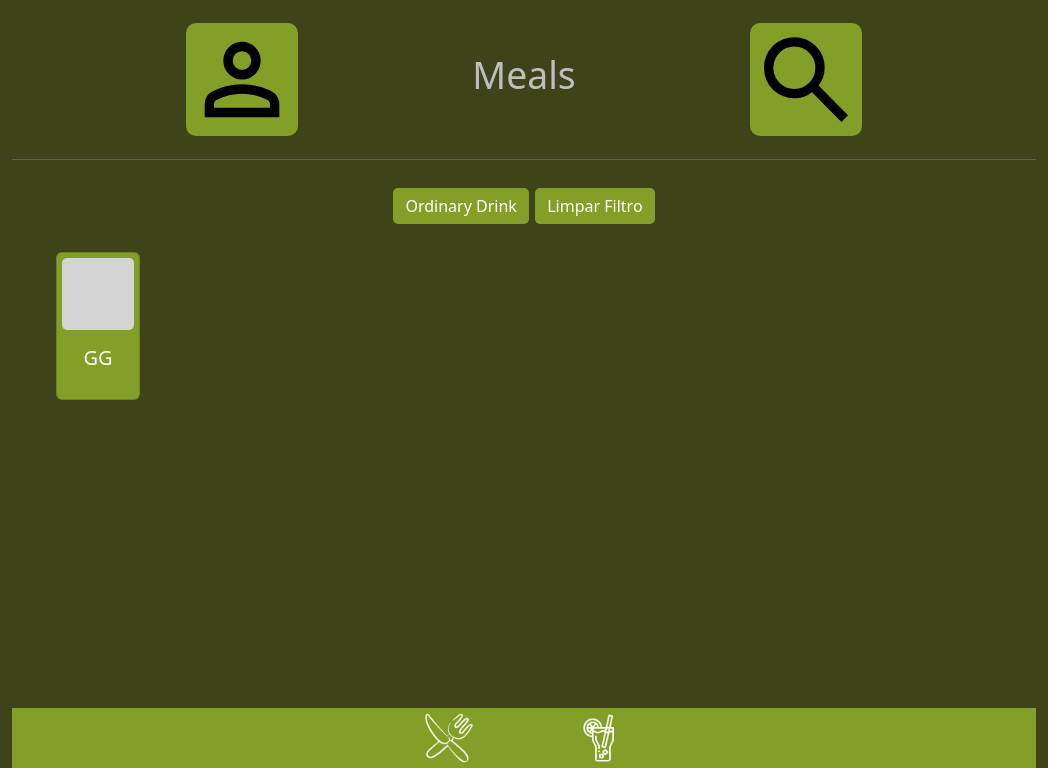
Test case: Testes do Header › quando clicamos em pesquisa aparece a barra pesquisa
The width and height of the screenshot is (1048, 768).
What coordinates should you click on to do the following:
click the button with test id "search-top-btn"
I would click on:
 (806, 79)
Its box is [736, 16, 875, 143].
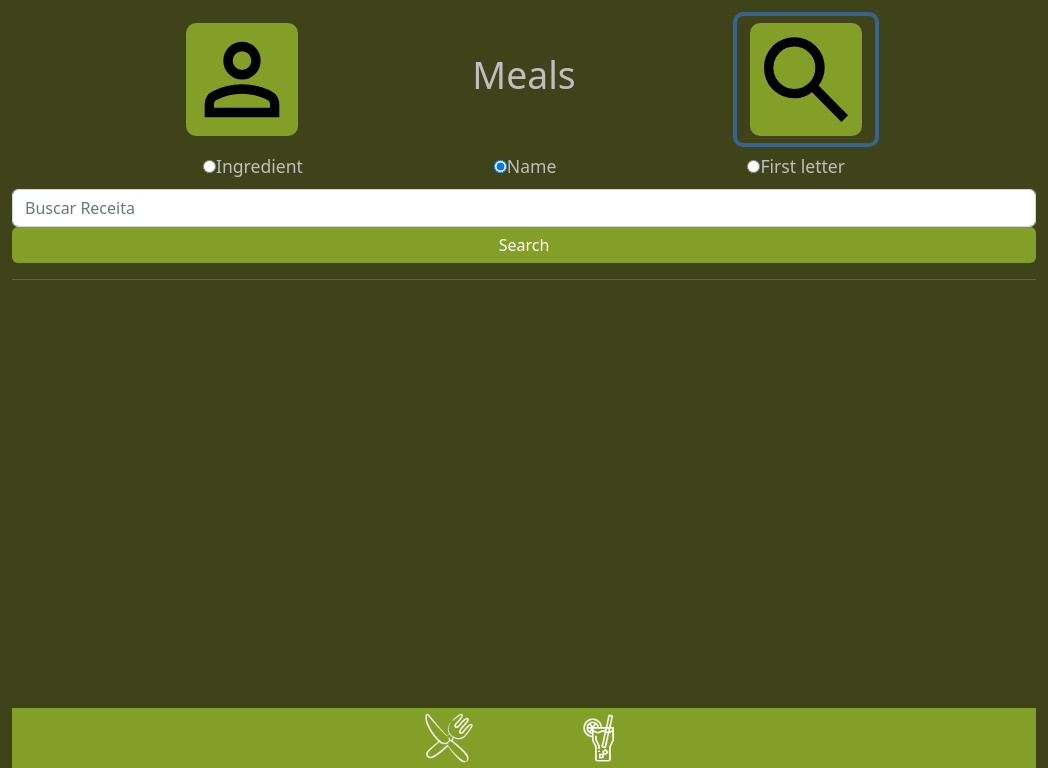
Now the field with test id "search-input" is shown, box [12, 189, 1036, 227]
